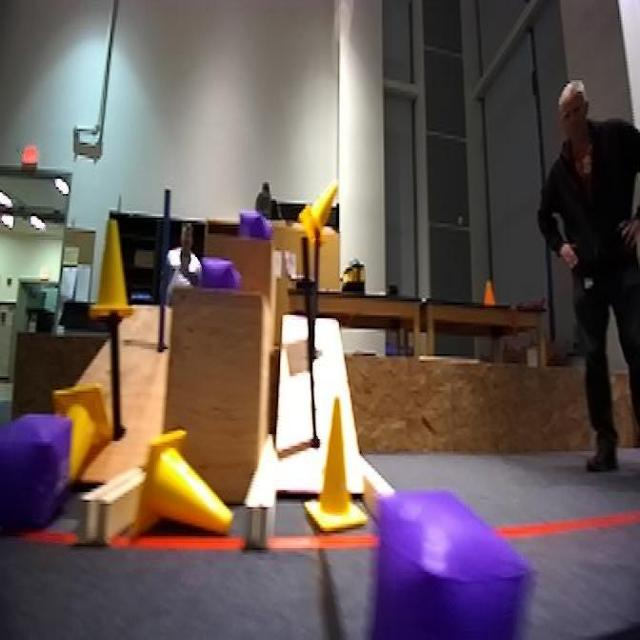frc_cone: (137, 427, 238, 550), (299, 395, 370, 534), (44, 381, 106, 487), (89, 210, 139, 318), (304, 172, 349, 250)
frc_cube: (361, 507, 514, 628), (0, 410, 70, 528), (198, 252, 237, 288), (237, 204, 272, 240)
